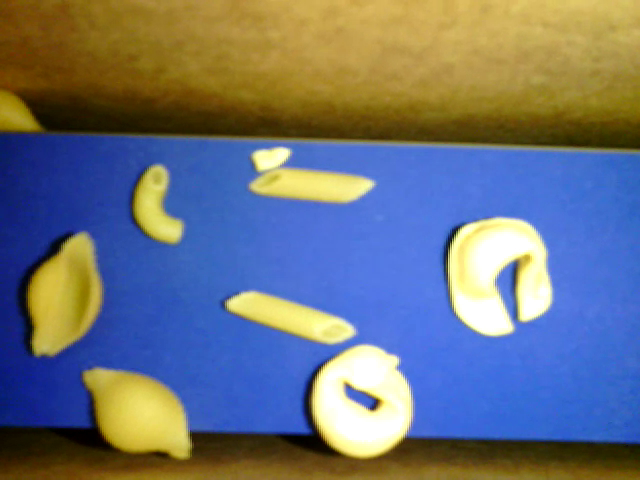elbow: (131, 164, 181, 243)
penne: (219, 287, 357, 347), (246, 168, 374, 205)
shell: (77, 366, 197, 461), (27, 230, 101, 358), (1, 86, 46, 134)
tortellini: (448, 214, 552, 336), (308, 345, 412, 456)
